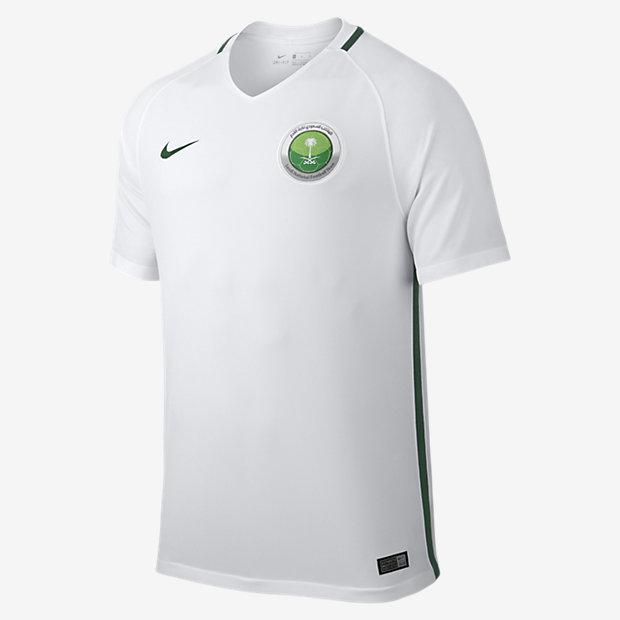teeshirt: (112, 11, 510, 620)
